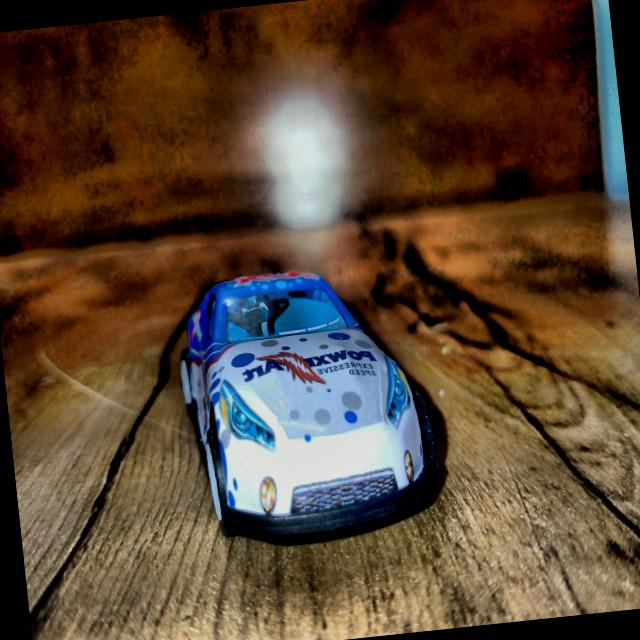Car: (172, 259, 442, 547)
